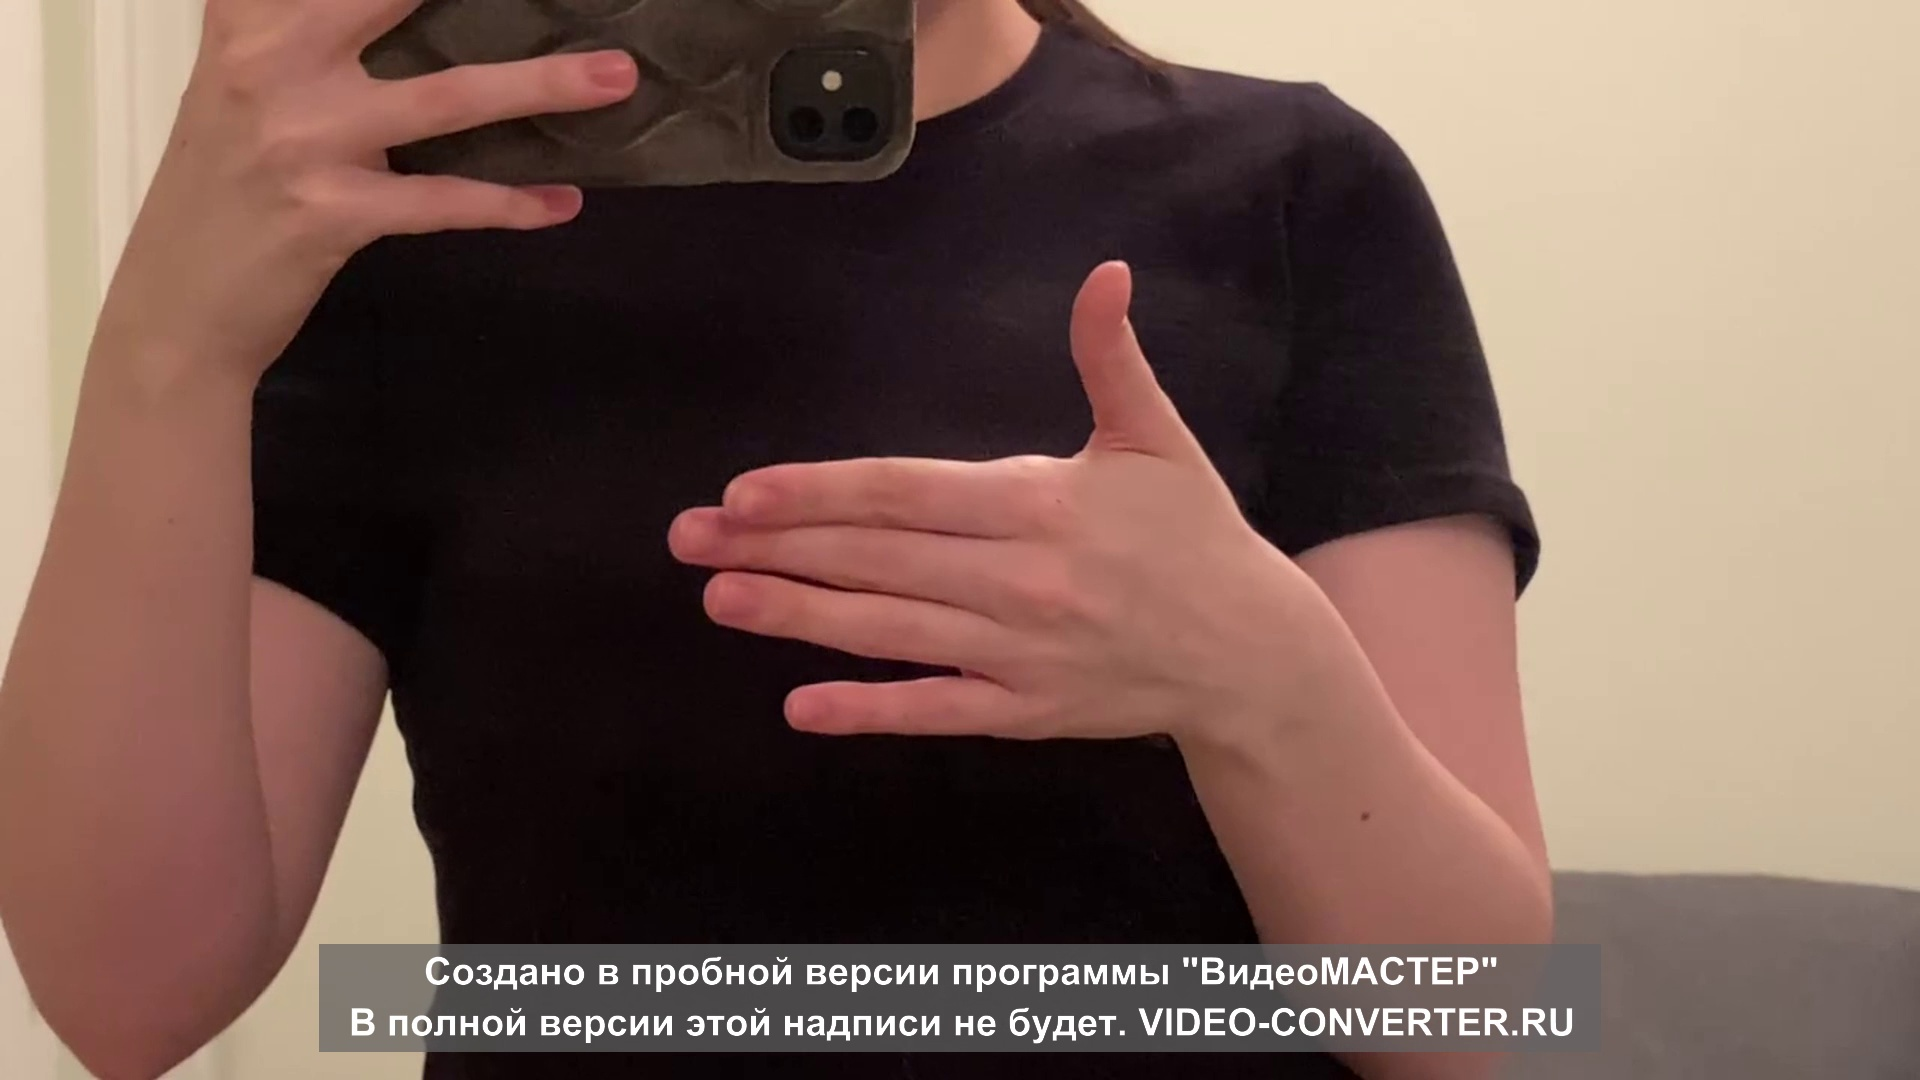Кисть: (665, 261, 1238, 742)
